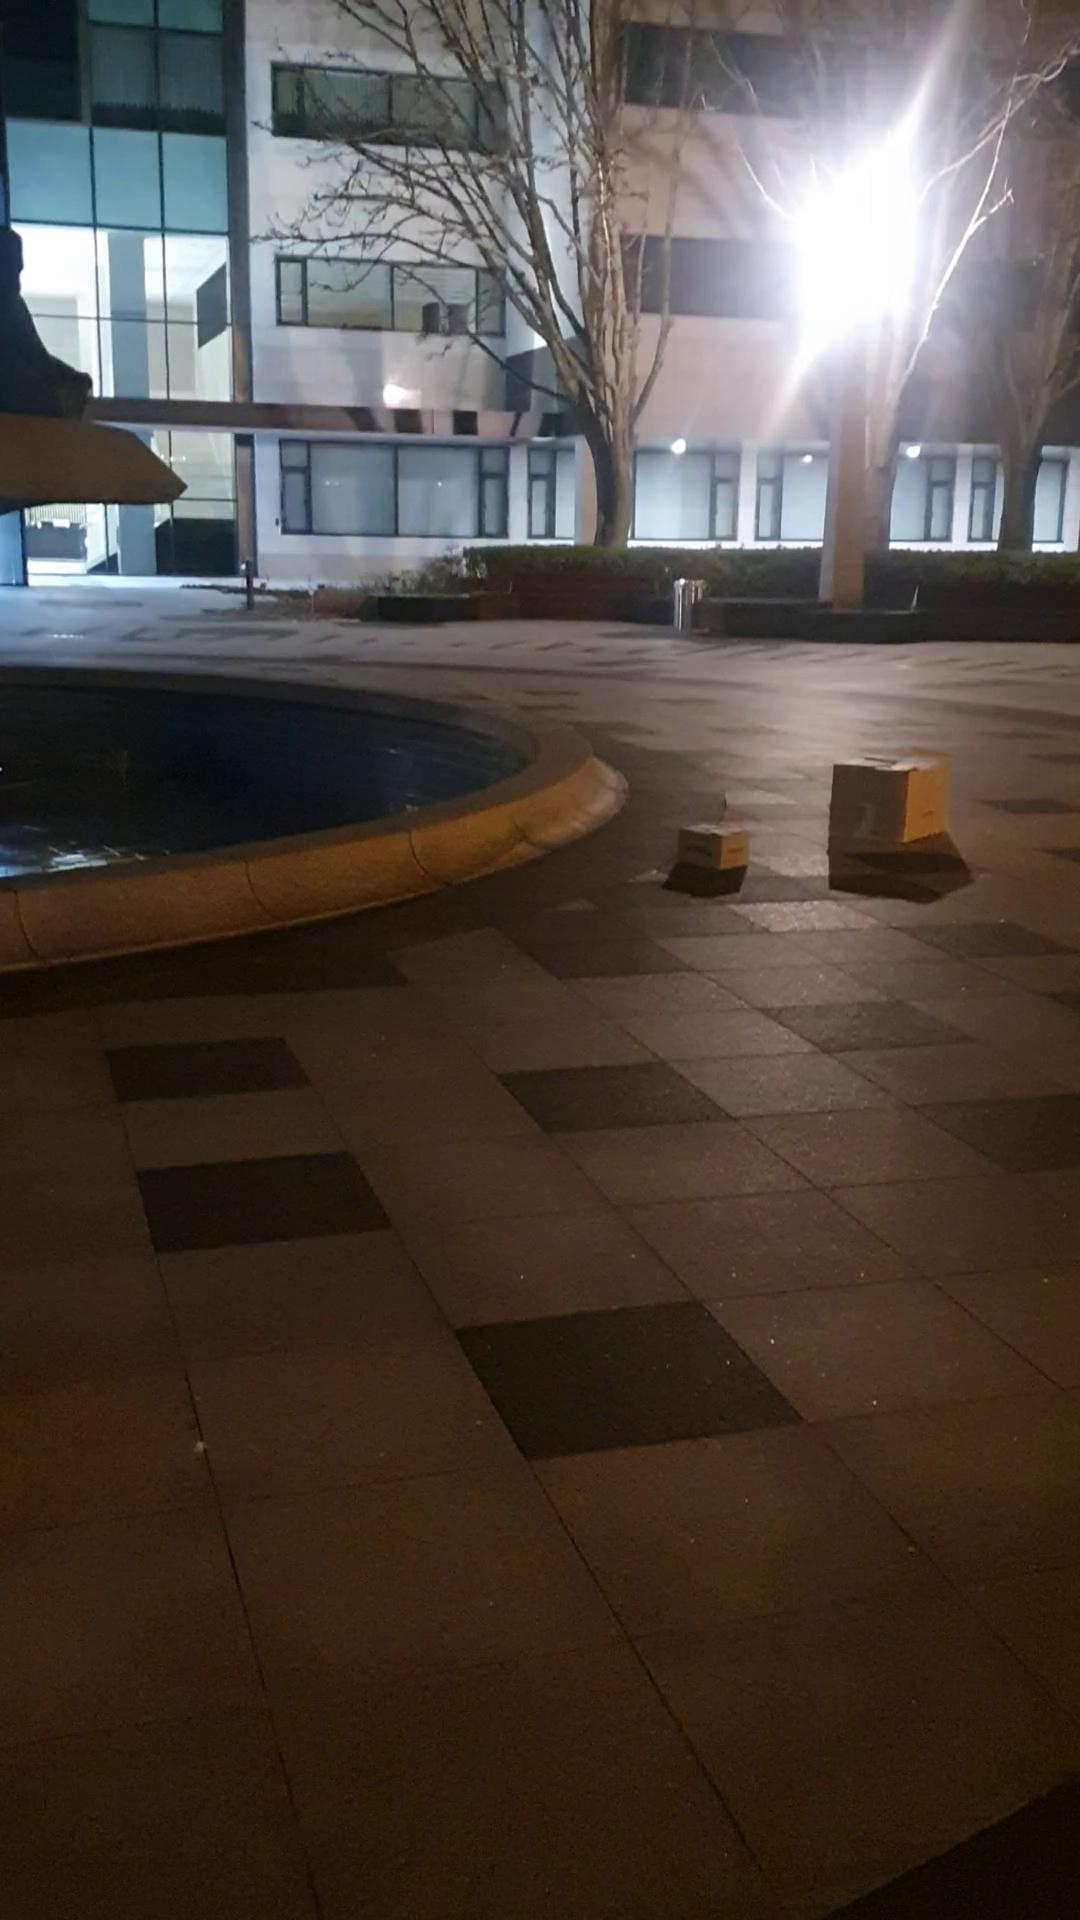Box: (831, 745, 965, 862), (669, 814, 744, 873)
